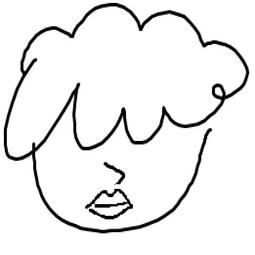cupid_mouth: (77, 186, 136, 221)
pointy_nose: (99, 159, 131, 187)
